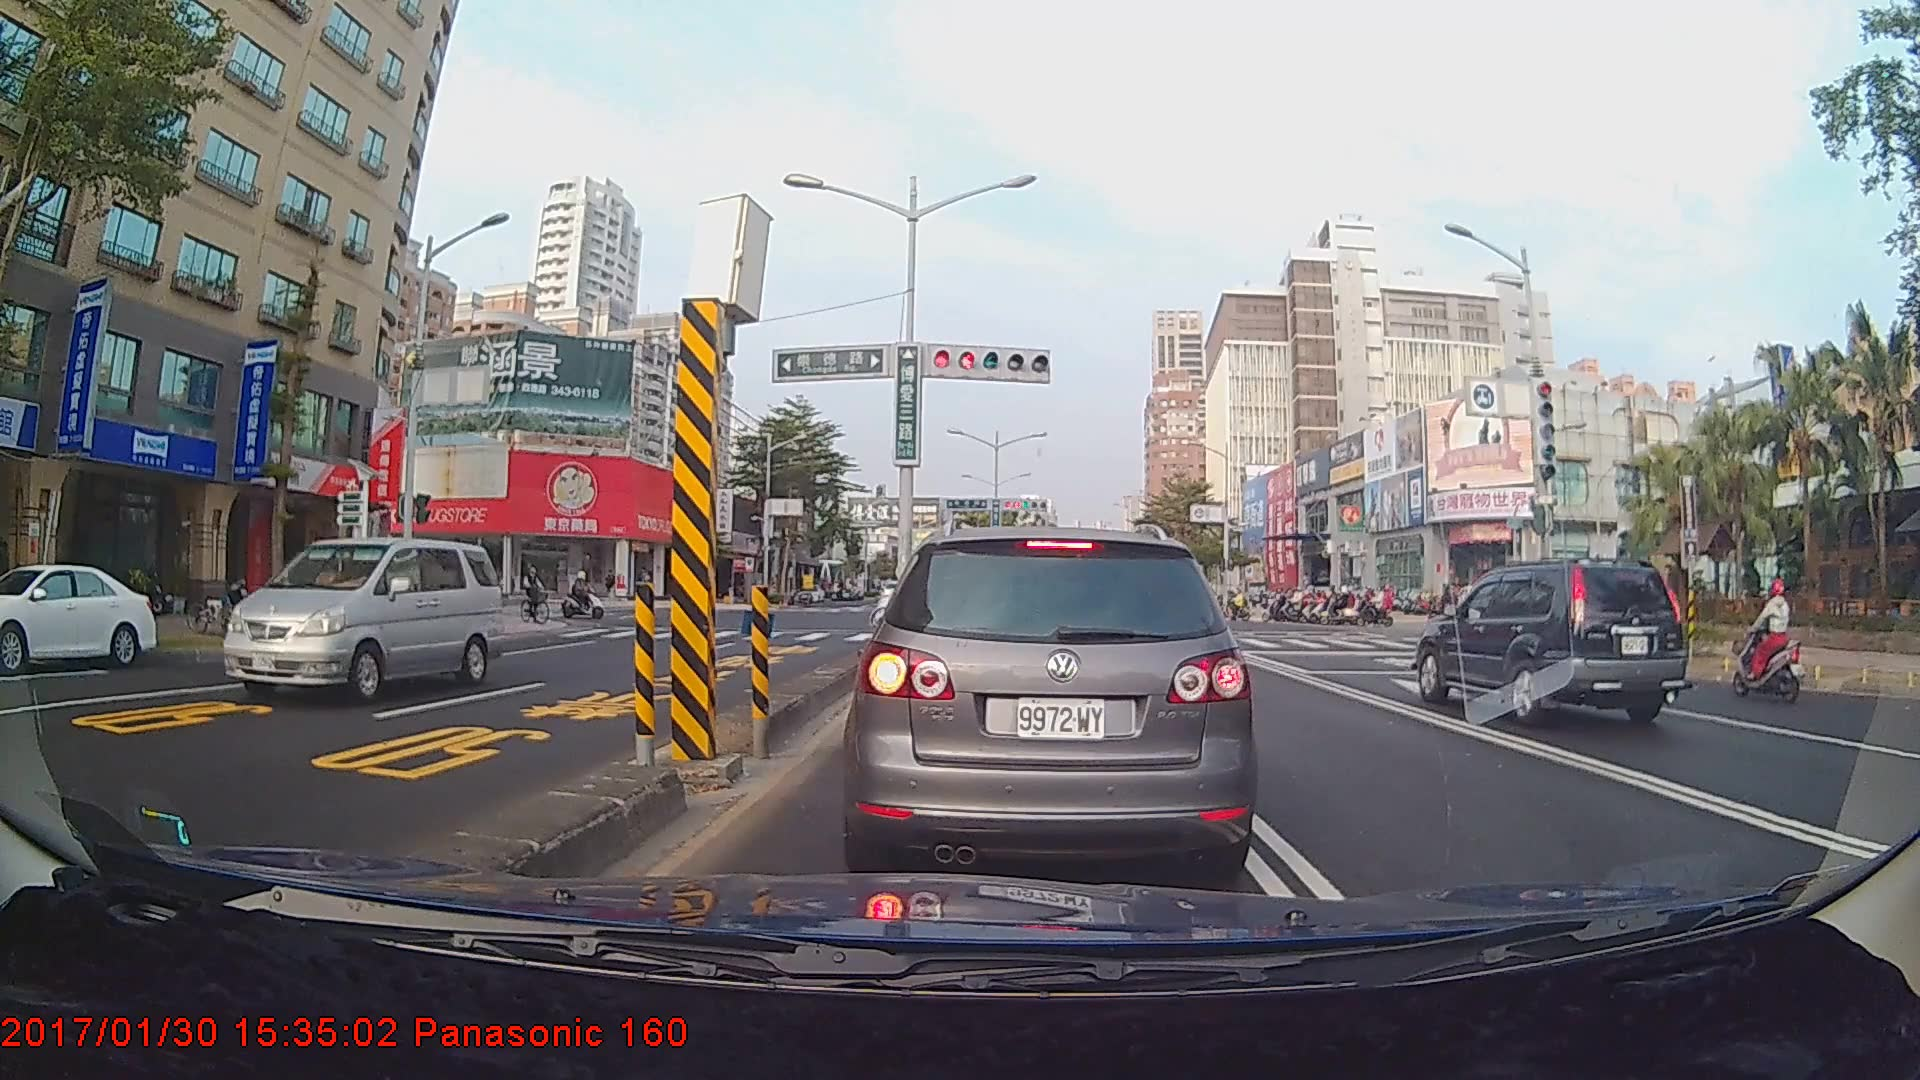rider: (1737, 566, 1811, 706), (562, 566, 609, 619), (522, 566, 551, 627)
vehicle: (848, 519, 1253, 881), (1408, 554, 1691, 734), (206, 532, 492, 708), (0, 562, 154, 673)
